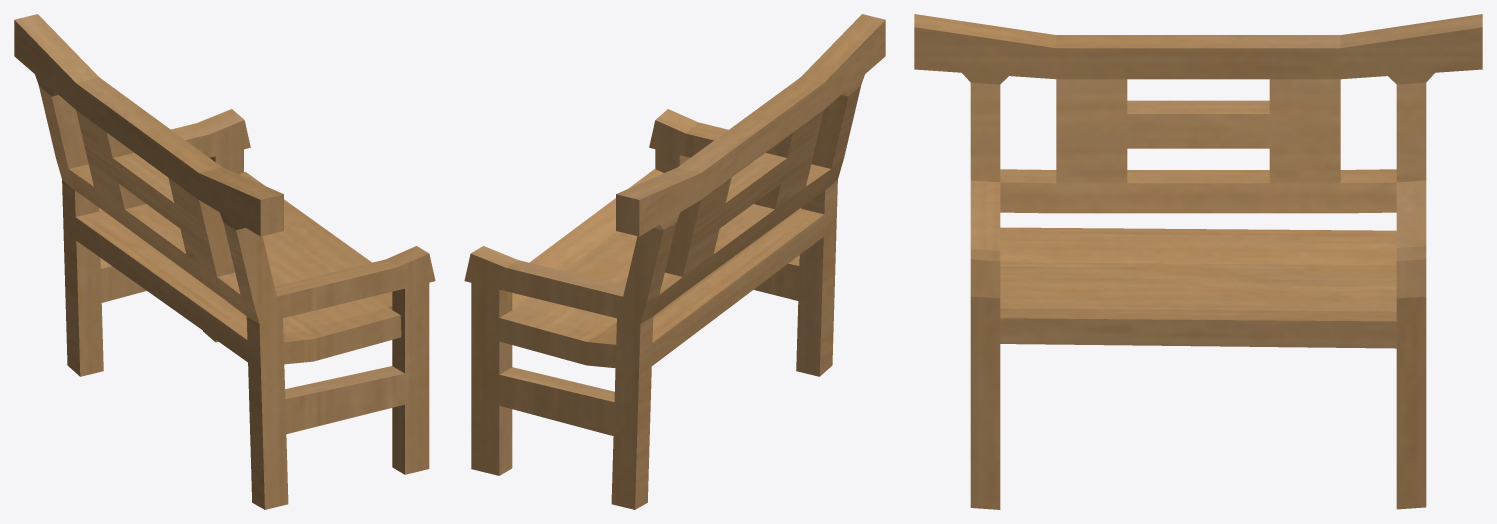
The model's file is bench1.fbx.
3 views of the same model, side by side, from view 1: azimuth 30°, elevation 25°; view 2: azimuth 150°, elevation 25°; view 3: azimuth 270°, elevation 25° (orthographic). The views are drawn at different scales.
Parts seen in each view (by area): view 1: Cube; view 2: Cube; view 3: Cube.
Boxes of the visible parts, x1=… form: Cube: x1=14, y1=14, x2=435, y2=509; Cube: x1=464, y1=14, x2=885, y2=509; Cube: x1=914, y1=14, x2=1482, y2=509.
Size of the model in its own units: 98.36 by 159 by 211.
Materials: 1 (1 with a texture image).
